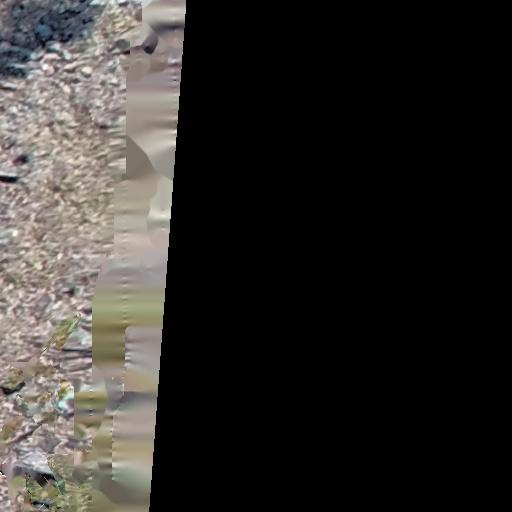stone: (11, 390, 48, 424), (60, 330, 93, 358), (27, 452, 47, 480), (11, 60, 44, 75), (115, 30, 132, 59), (0, 159, 18, 185), (60, 5, 81, 20), (19, 50, 38, 66), (0, 44, 20, 58), (82, 12, 98, 29), (63, 60, 83, 72), (58, 48, 73, 63), (38, 62, 54, 76), (34, 26, 52, 37), (81, 66, 92, 78), (10, 9, 22, 20), (46, 39, 60, 48)
